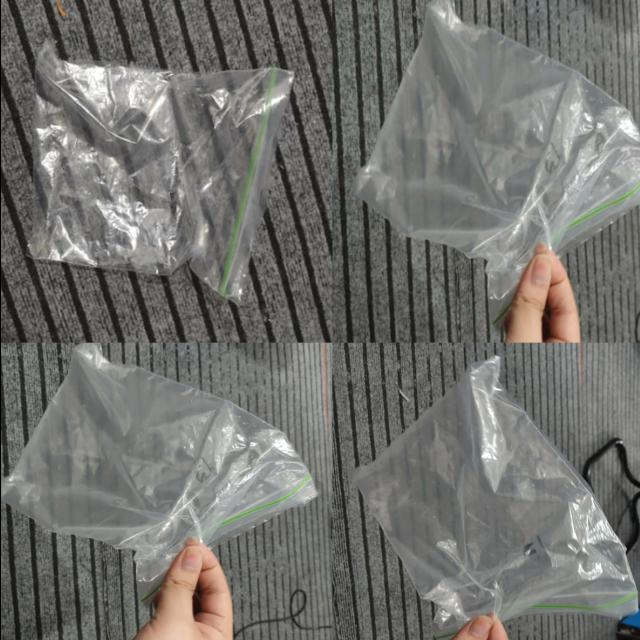plastik: (355, 0, 640, 321), (0, 344, 316, 604), (352, 356, 636, 638), (28, 43, 292, 301)
